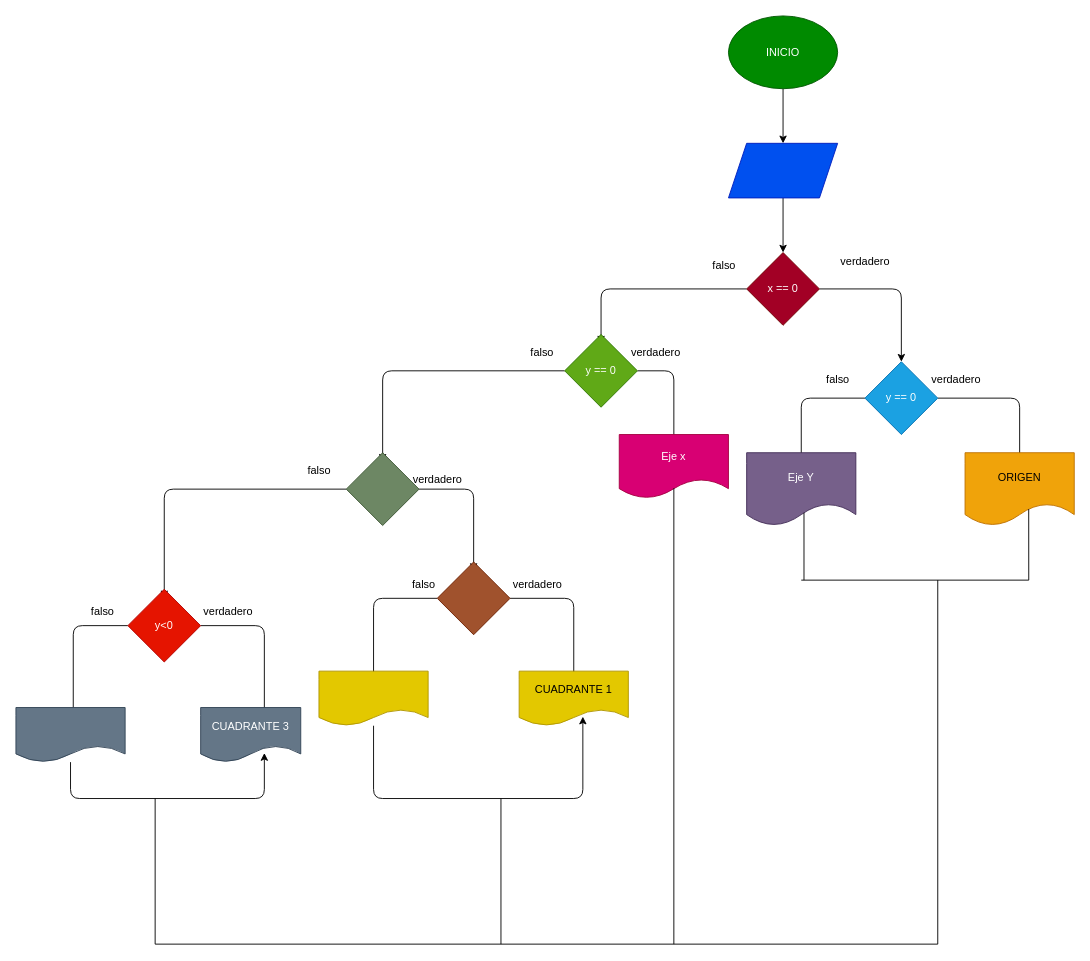
Some shapes in this 1090 by 961 pixel diagram are drawn without their labels. Each missing label, with the centre of its shape:
CUADRANTE 2: the point at 70,734
CUADRANTE 4: the point at 373,698
x,y: the point at 783,170
x>0: the point at 382,489
y>0: the point at 473,598
